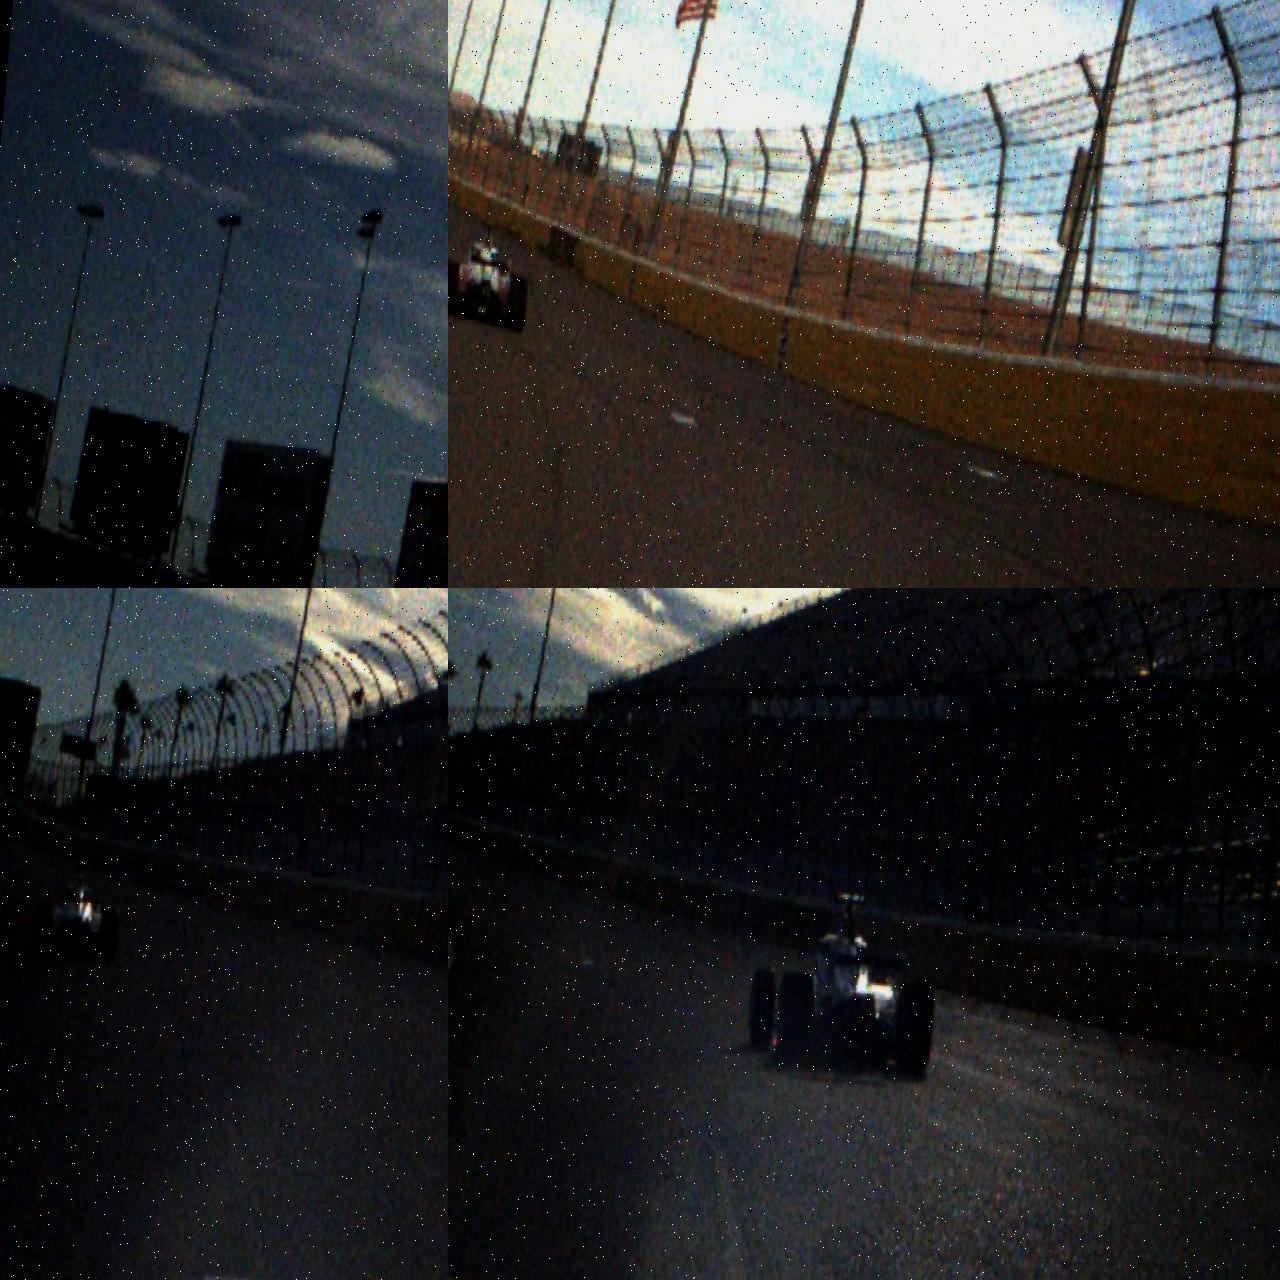AV: (744, 885, 944, 1083), (448, 217, 535, 332), (29, 859, 124, 964)
Wheel: (890, 980, 937, 1082), (775, 971, 816, 1067), (745, 965, 777, 1053), (97, 908, 120, 964), (508, 275, 529, 332), (30, 904, 53, 956), (448, 261, 459, 315)
